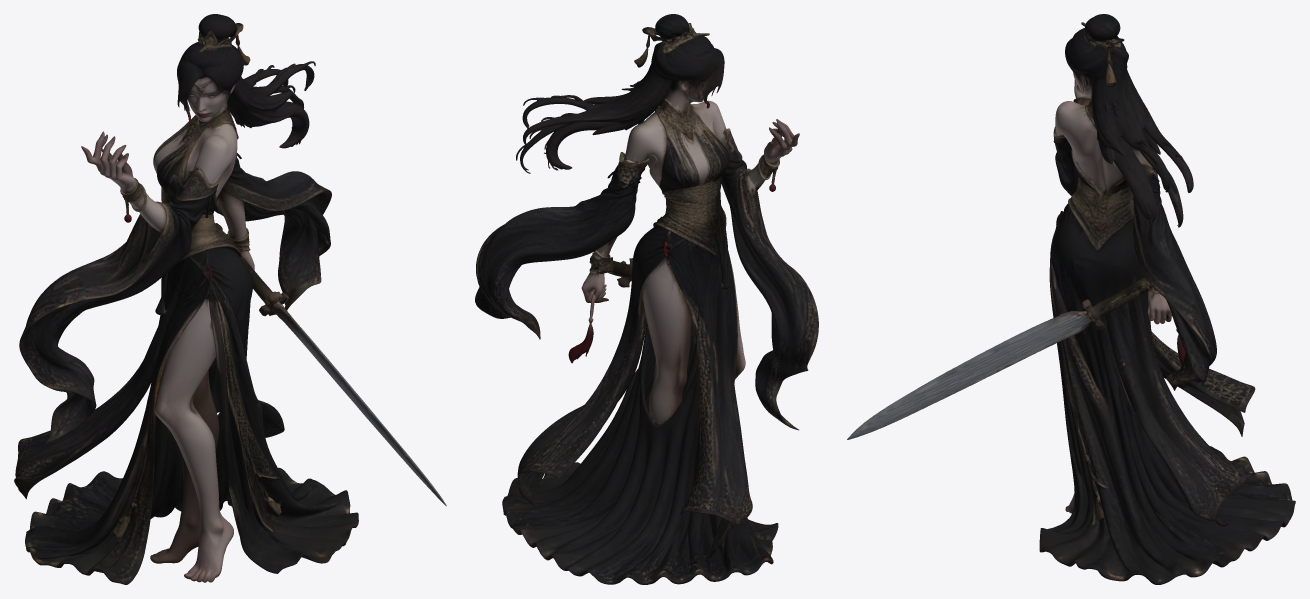
The model's file is zzr_dark.glb.
The picture shows the model from 3 angles, left to right: view 1: azimuth 30°, elevation 25°; view 2: azimuth 150°, elevation 25°; view 3: azimuth 270°, elevation 25°; orthographic projection. The views are drawn at different scales.
Visible parts, largest first — view 1: node_0; view 2: node_0; view 3: node_0.
Part boxes in pixels (x1,y1,x2,y2): node_0: [14, 14, 446, 584]; node_0: [475, 14, 818, 584]; node_0: [847, 14, 1295, 584].
Bounding box in the file's own units: 0.6262 × 0.9564 × 0.7672.
Materials: 1 (1 with a texture image).
